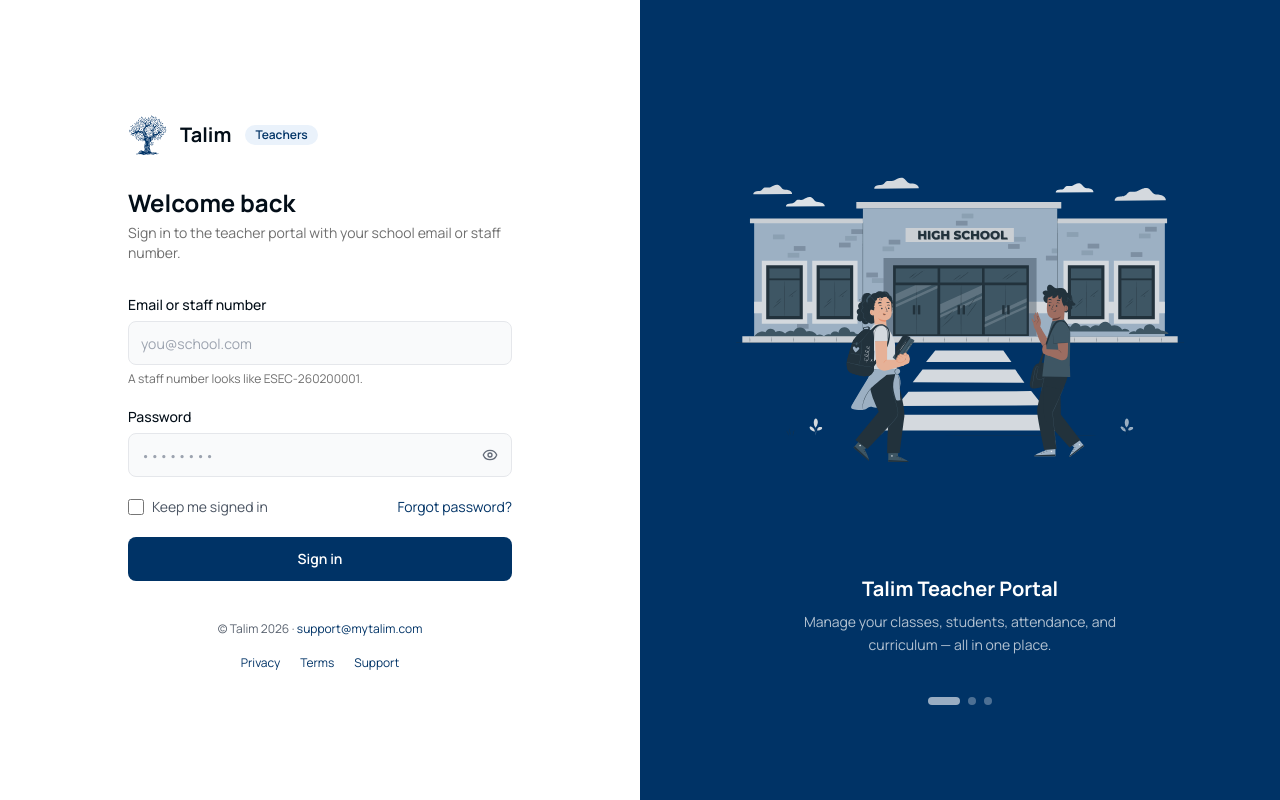
Test: a refused sign-in › refuses a student account with 'Access denied' and the role
Expected: the button "Sign in" is shown, [128,537,512,581]
Type "ada@school.test" into the field labelled "Email or staff number" at (320, 343), box [128,321,512,365]
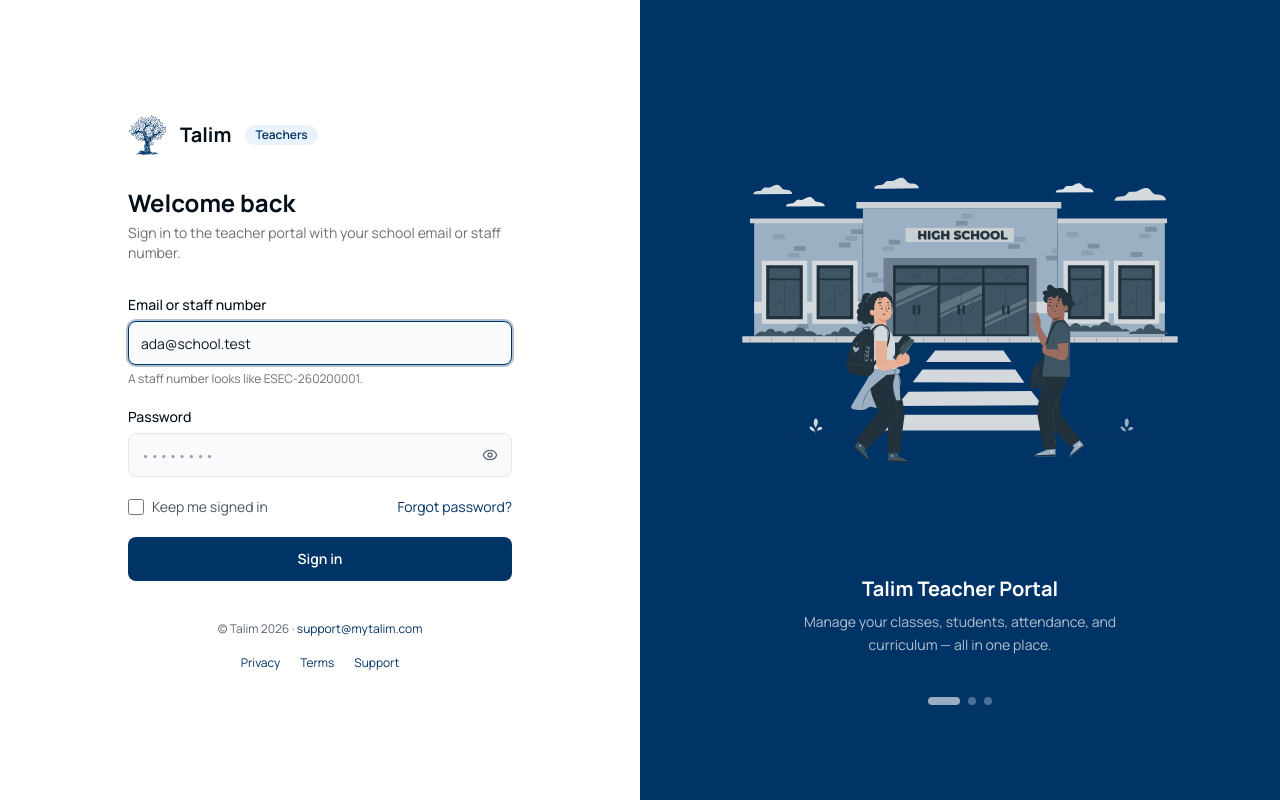
Type "Right#Pass1" into the password field labelled "Password" at (320, 455), box [128,433,512,477]
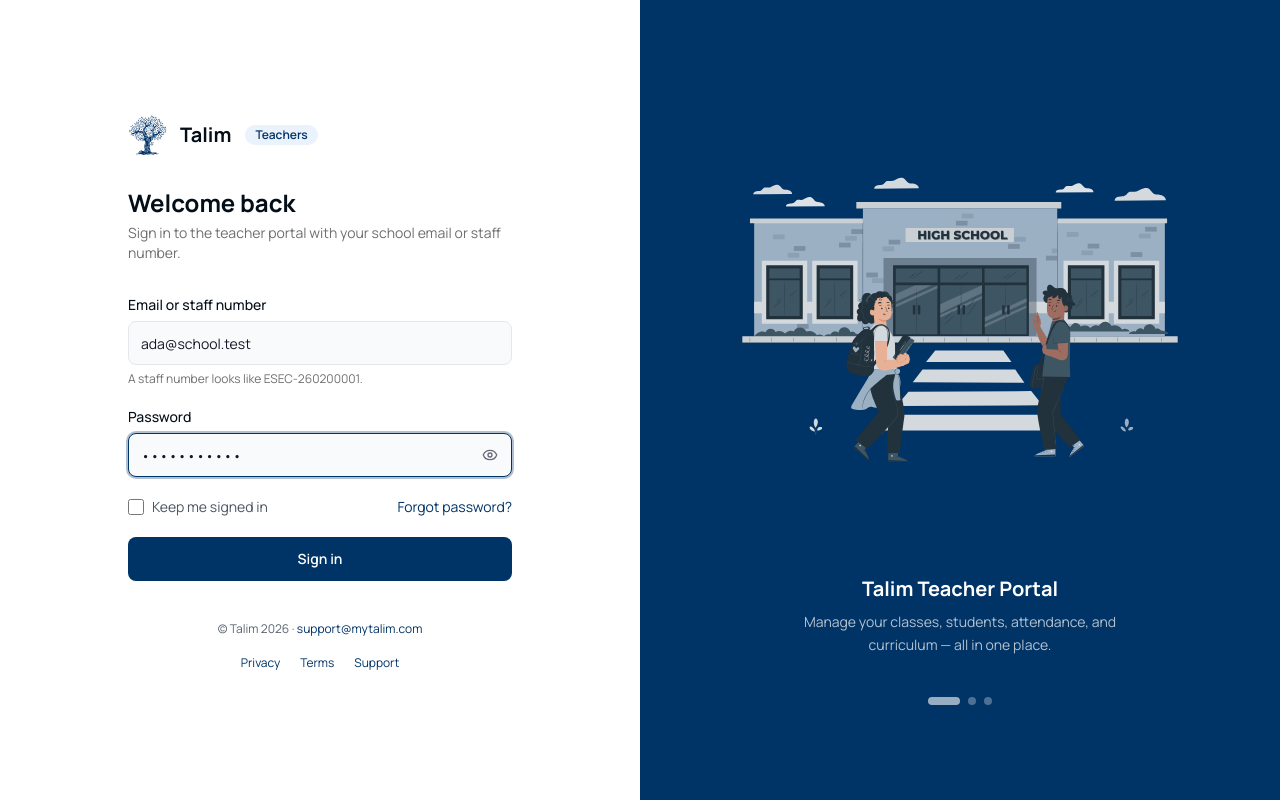
Click the button "Sign in" at (320, 559), box [128,537,512,581]
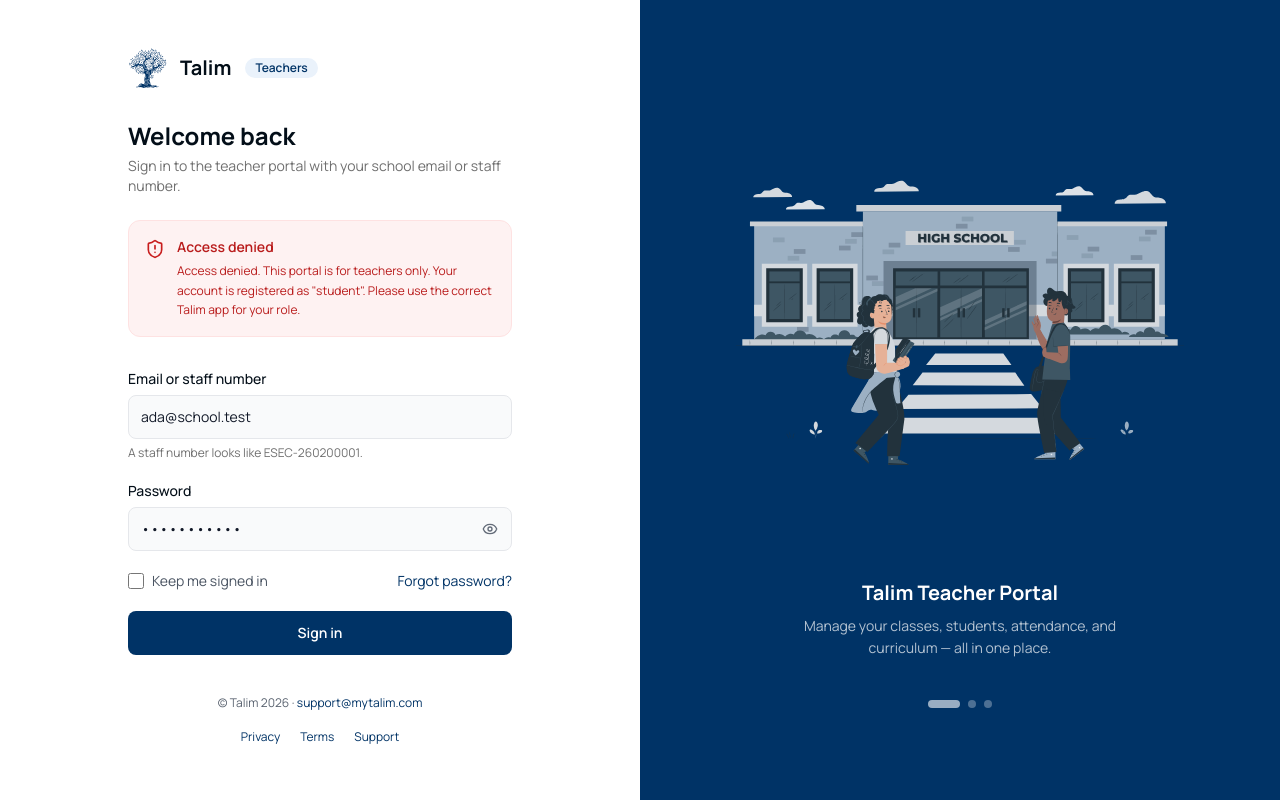
Now the message shows "Access denied", box [177,237,274,256]
Now the message shows "registered as \"student\"", box [177,262,492,318]
